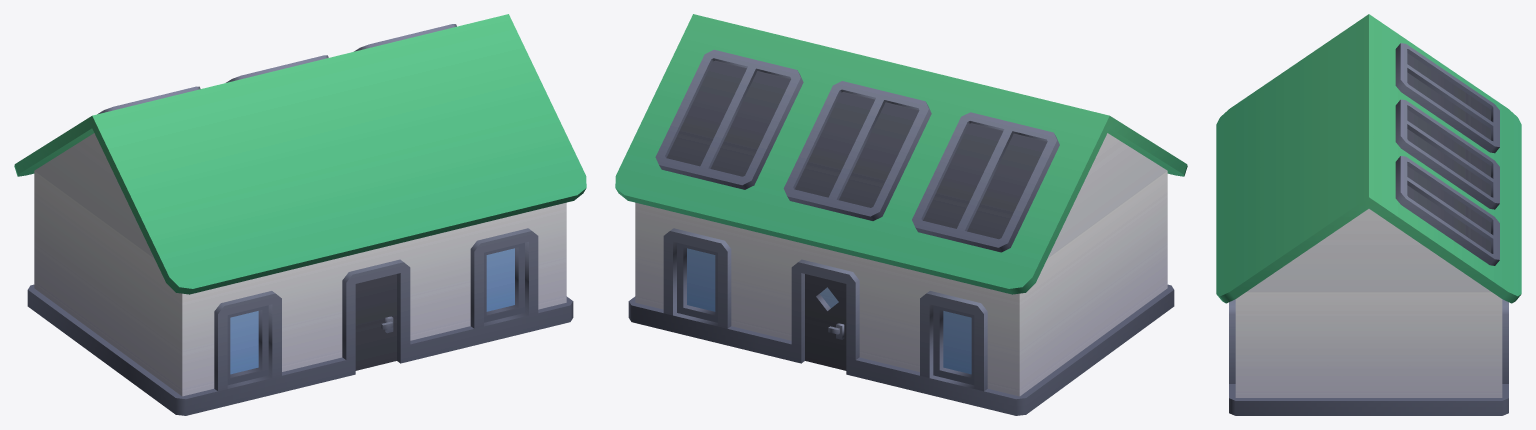
Rendered from sub-building-type-h.glb.
3 renders of one model, left to right at view 1: azimuth 30°, elevation 25°; view 2: azimuth 150°, elevation 25°; view 3: azimuth 270°, elevation 25°, orthographic. The views are drawn at different scales.
Parts seen in each view (by area): view 1: building-type-h; view 2: building-type-h; view 3: building-type-h.
Part boxes in pixels (<box>): building-type-h: <box>14,14,586,415</box>; building-type-h: <box>615,14,1187,415</box>; building-type-h: <box>1216,14,1521,415</box>.
Size of the model in its own units: 13 by 7.38 by 9.16.
1 material, 1 textured.
